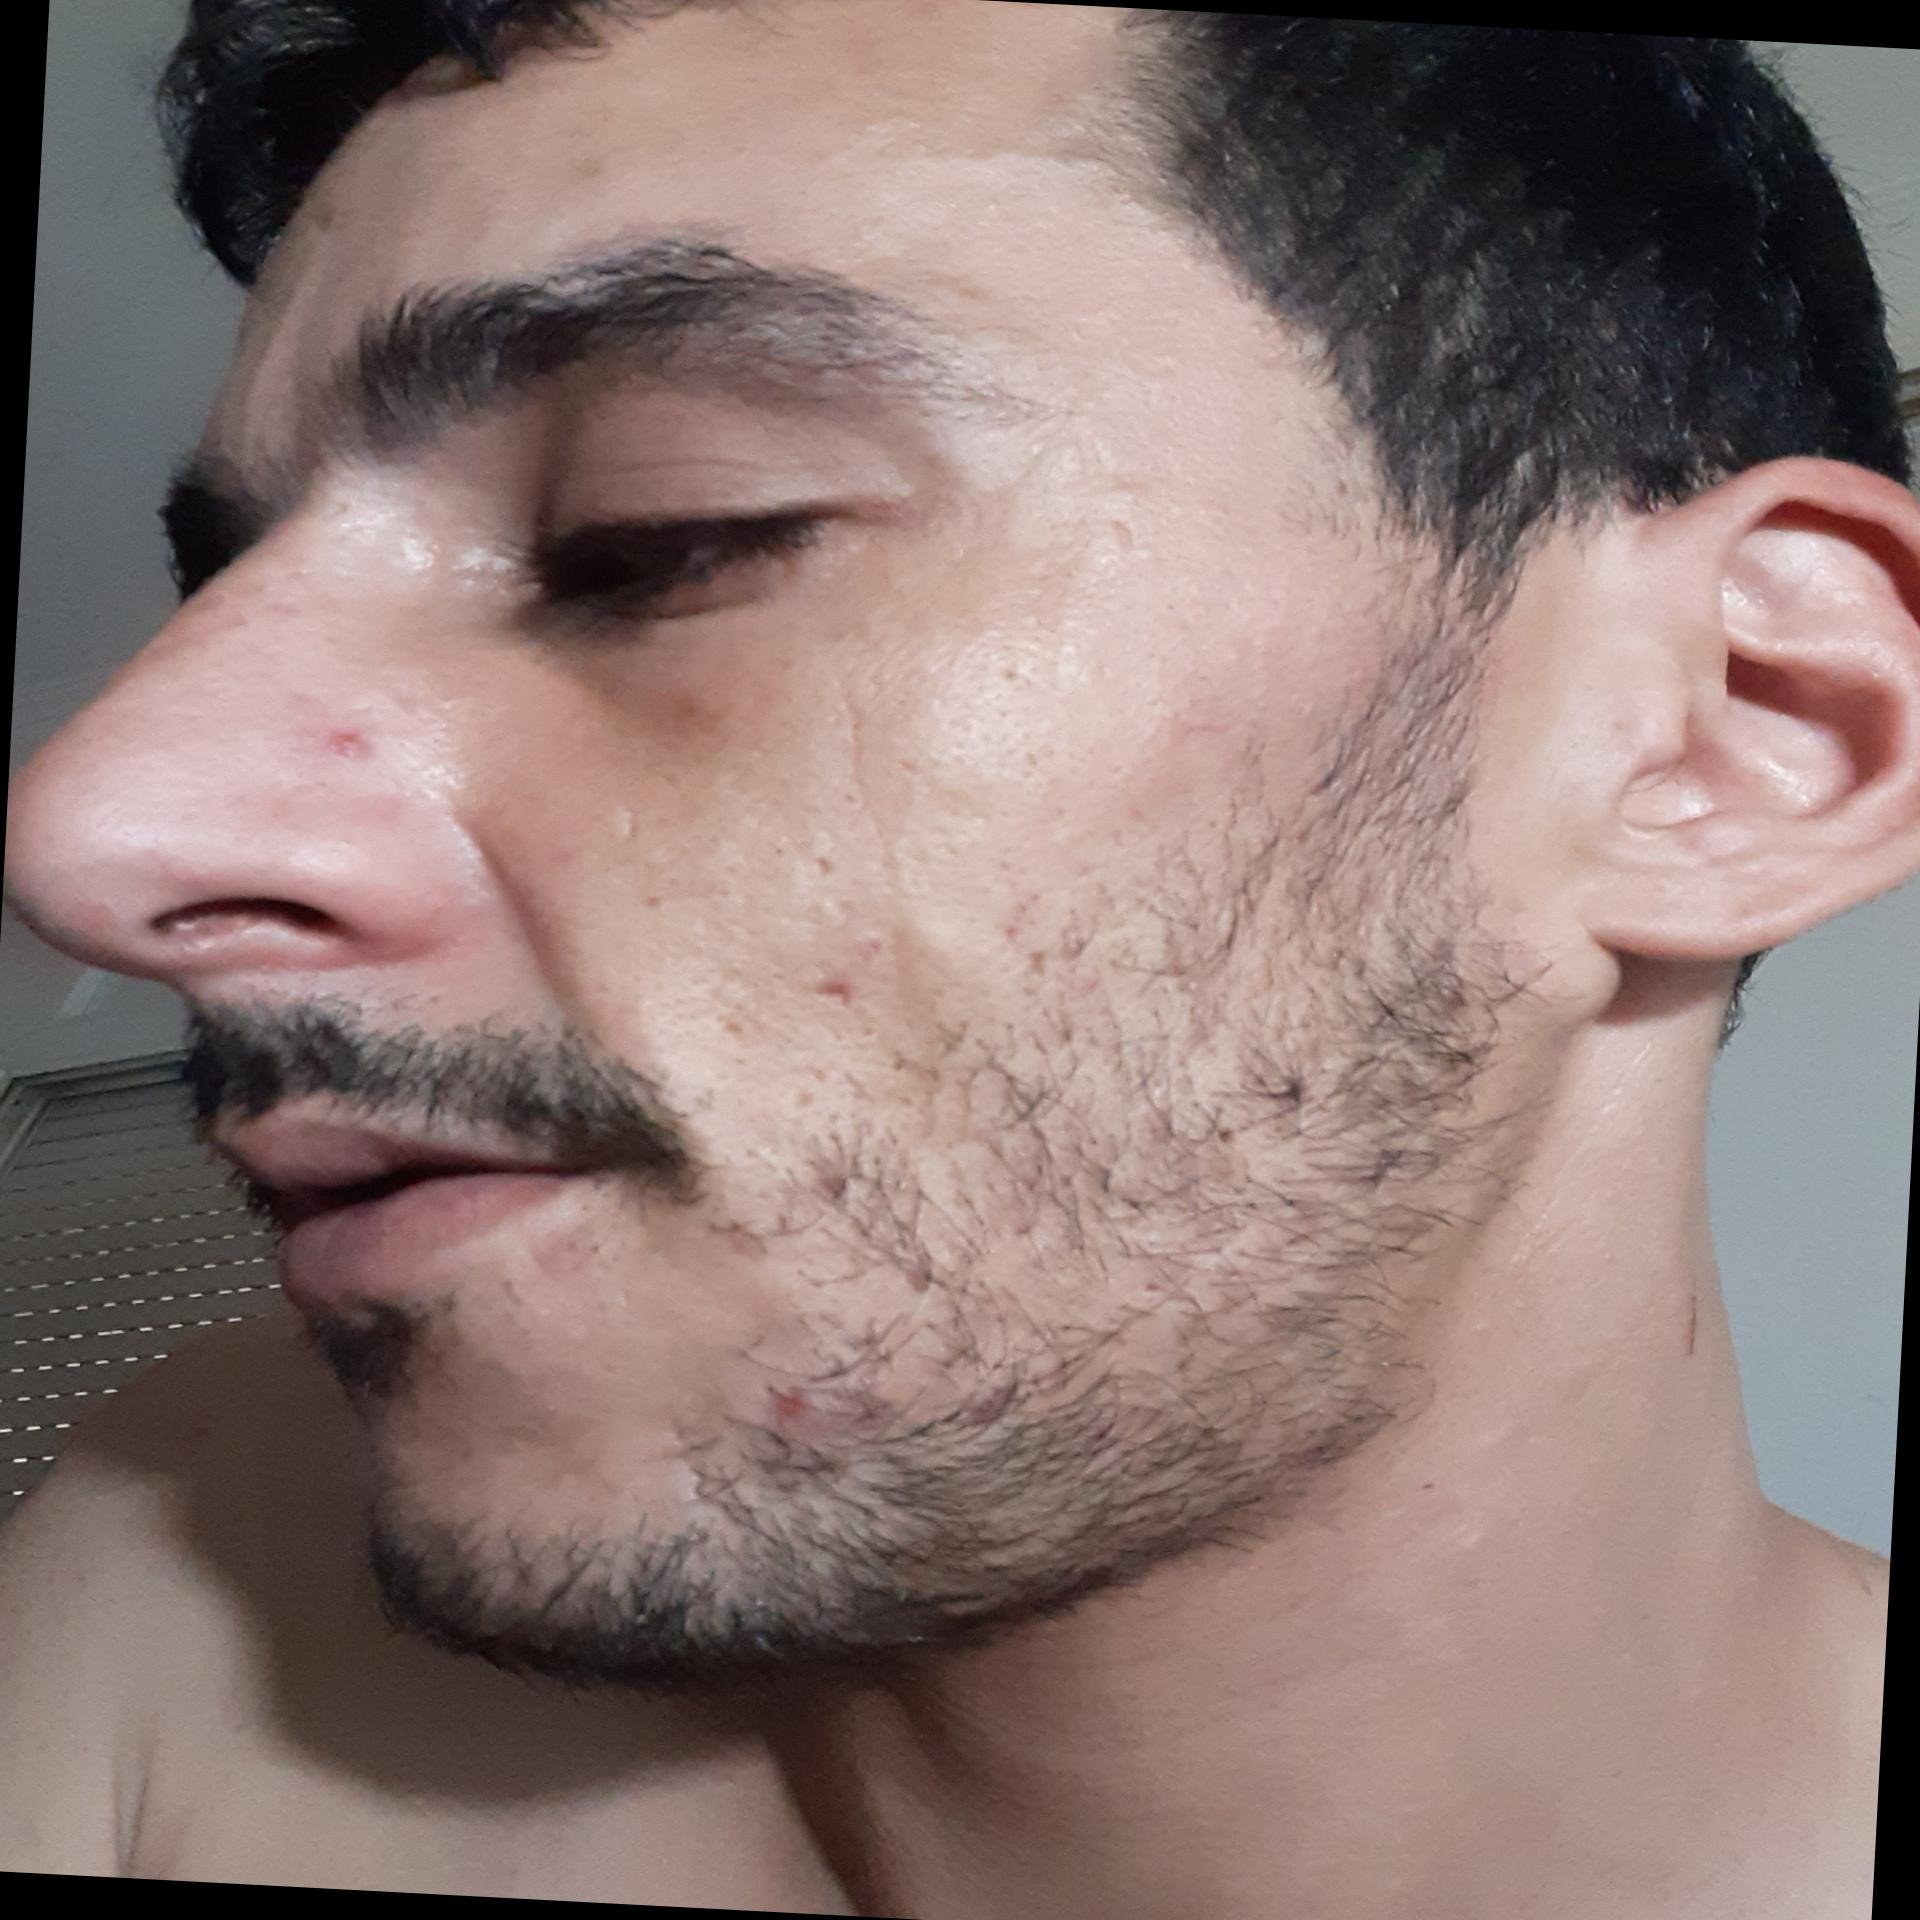Acne: (652, 693, 733, 747), (313, 714, 378, 772), (760, 1380, 823, 1429), (559, 144, 617, 193), (308, 199, 338, 236)
Englarged Pores: (644, 832, 932, 1106)
